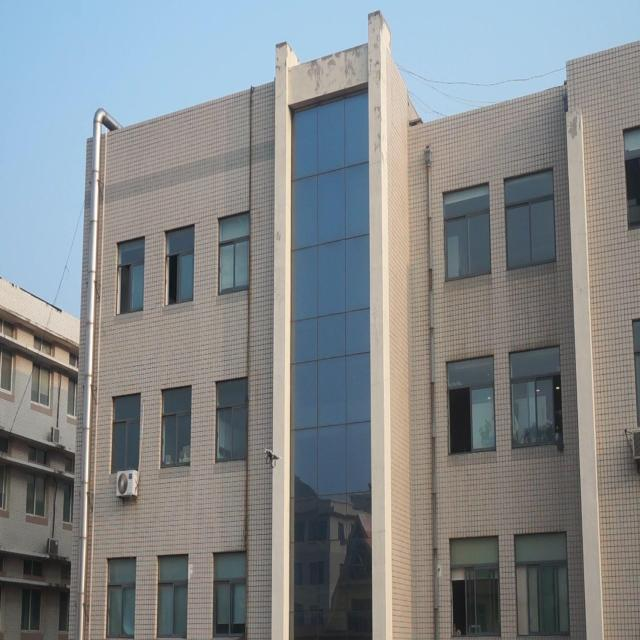drone: (264, 442, 279, 471)
